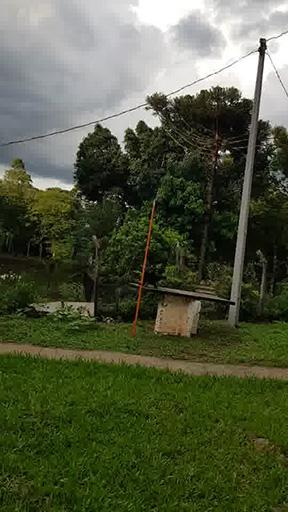Vara_Manobra: (132, 205, 155, 334)
